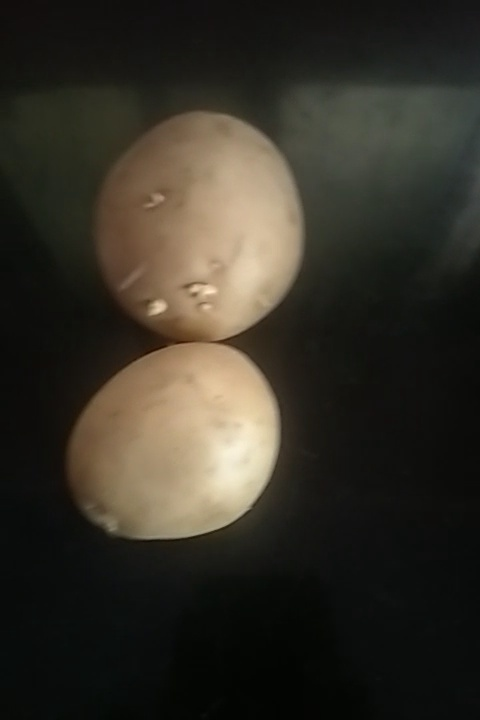potato: (76, 118, 309, 334), (65, 346, 289, 547)
